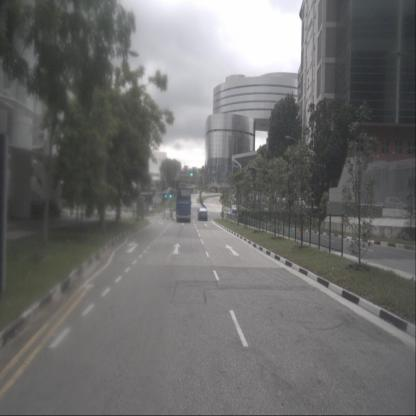vehicle-bus-rigid: (176, 188, 192, 222)
vehicle-car: (384, 196, 408, 212), (292, 196, 307, 207), (197, 207, 208, 221), (230, 205, 237, 213)
